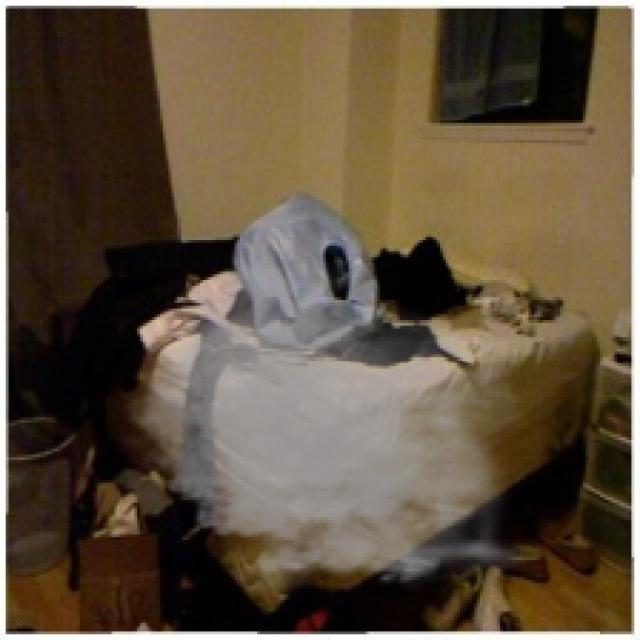Smoke: (115, 255, 540, 600)
